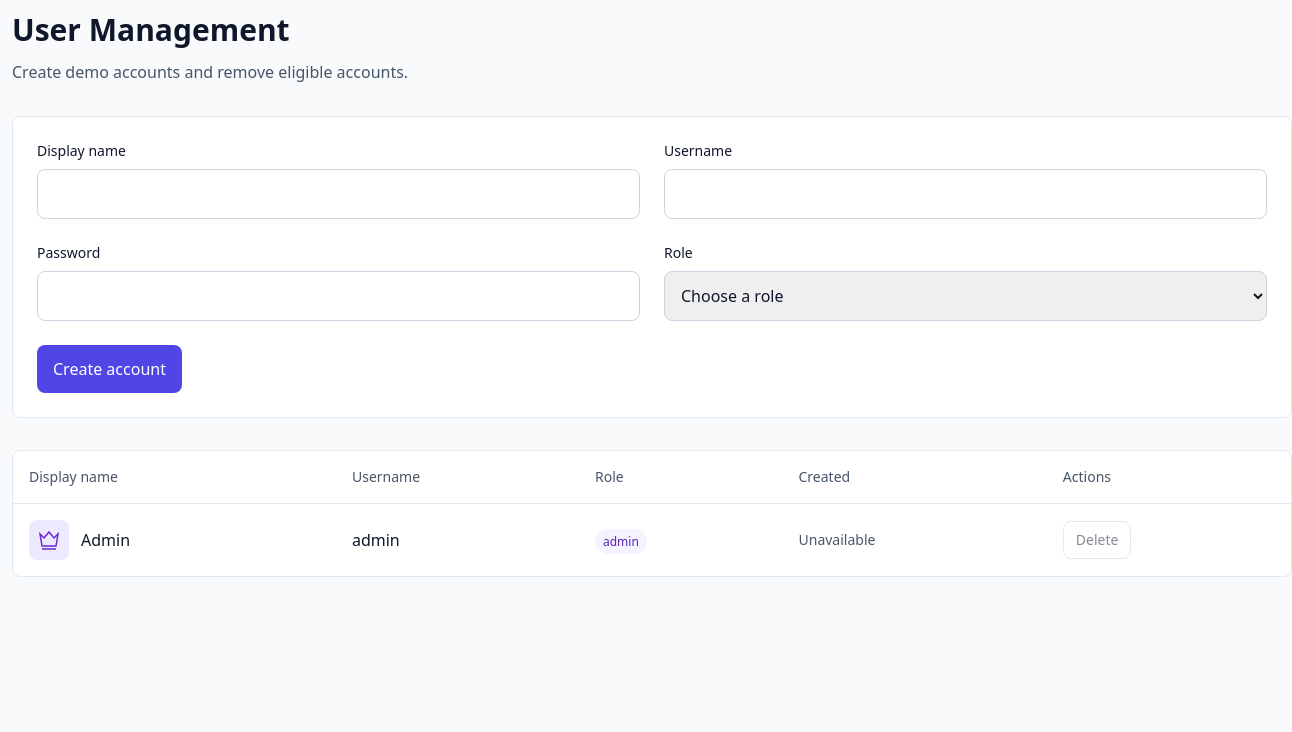
creates exact admin account without session or posts writes
Type "Alex" into the field labelled "Display name". click: (338, 194)
box: top-left (37, 169), bottom-right (640, 219)
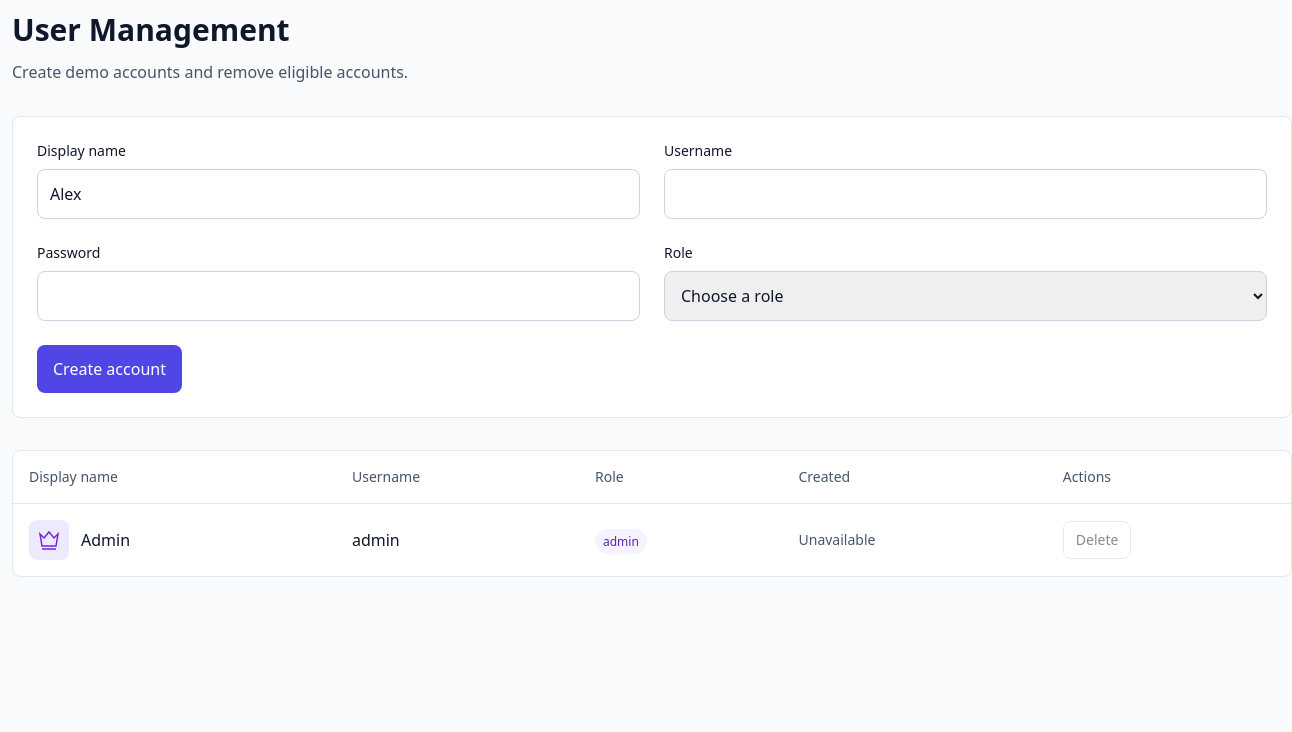
Type "alex" into the field labelled "Username". click: (966, 194)
box: top-left (664, 169), bottom-right (1267, 219)
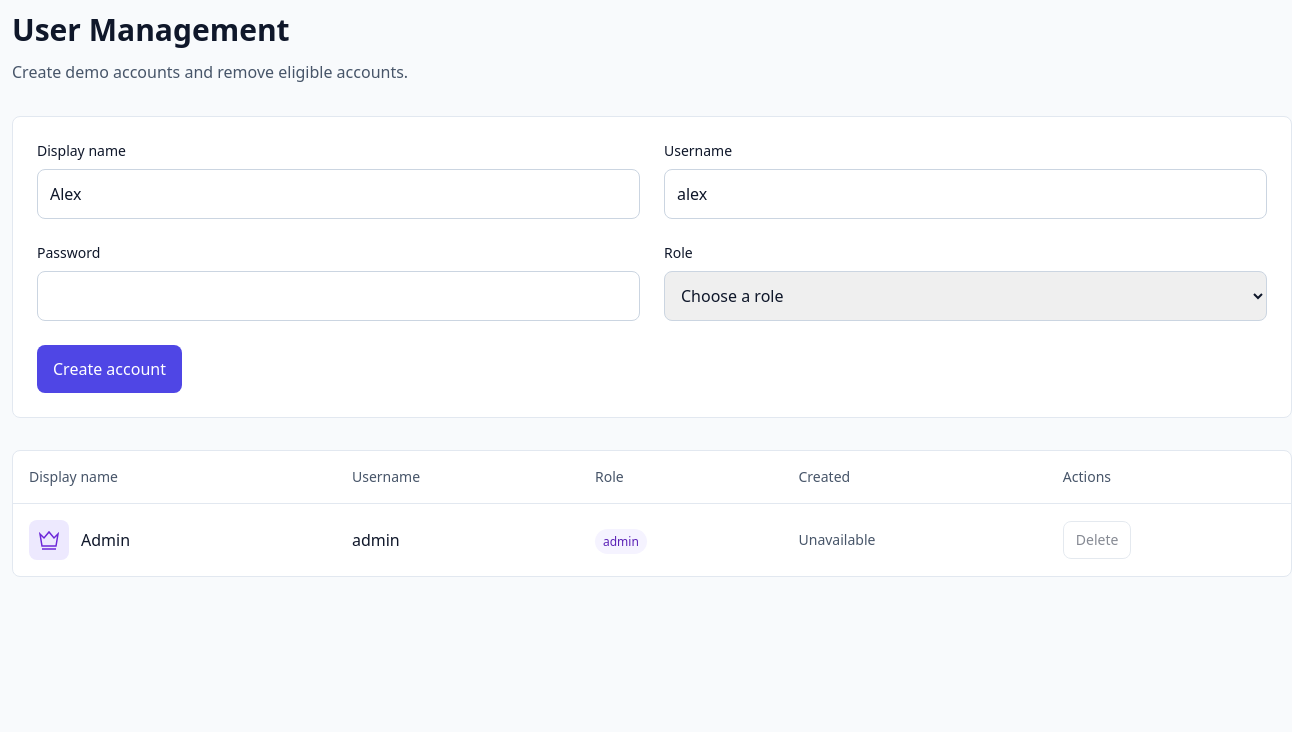
Type " demo " into the password field labelled "Password". click: (338, 296)
box: top-left (37, 271), bottom-right (640, 321)
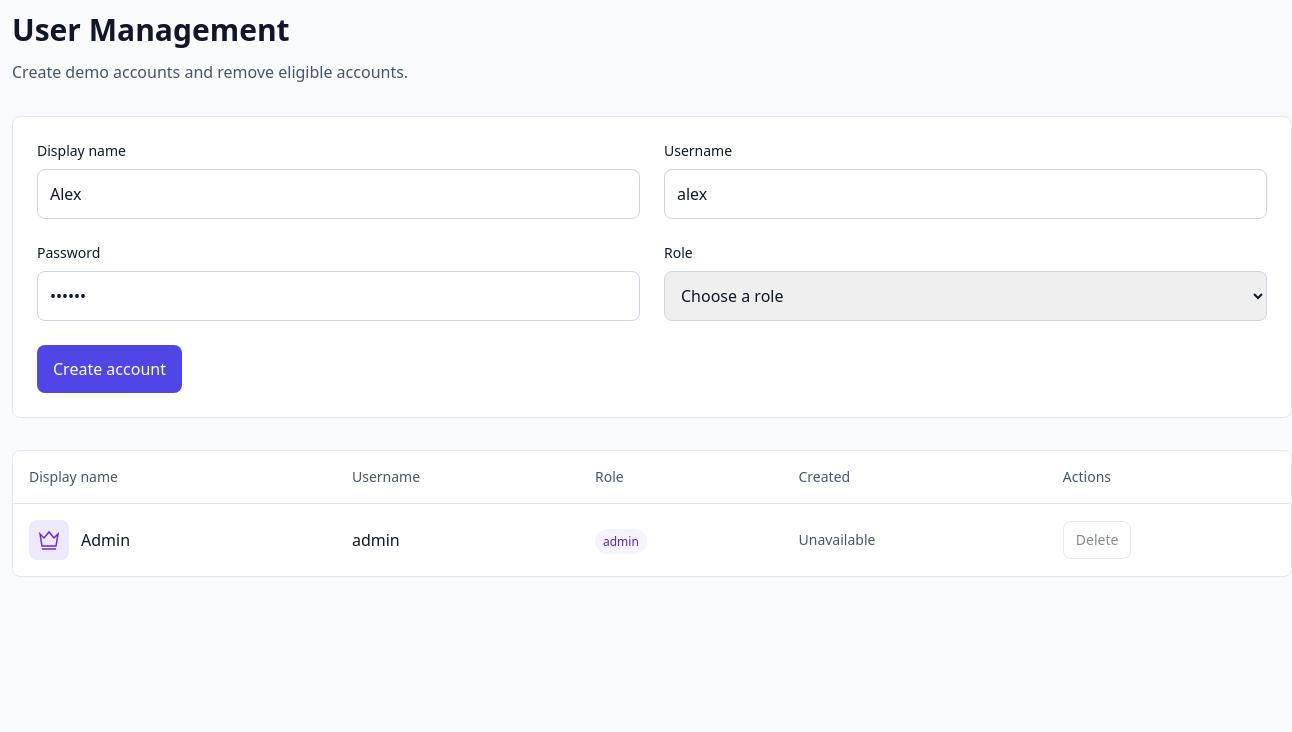
Select "admin" in the dropdown labelled "Role". click: (966, 296)
box: top-left (664, 271), bottom-right (1267, 321)
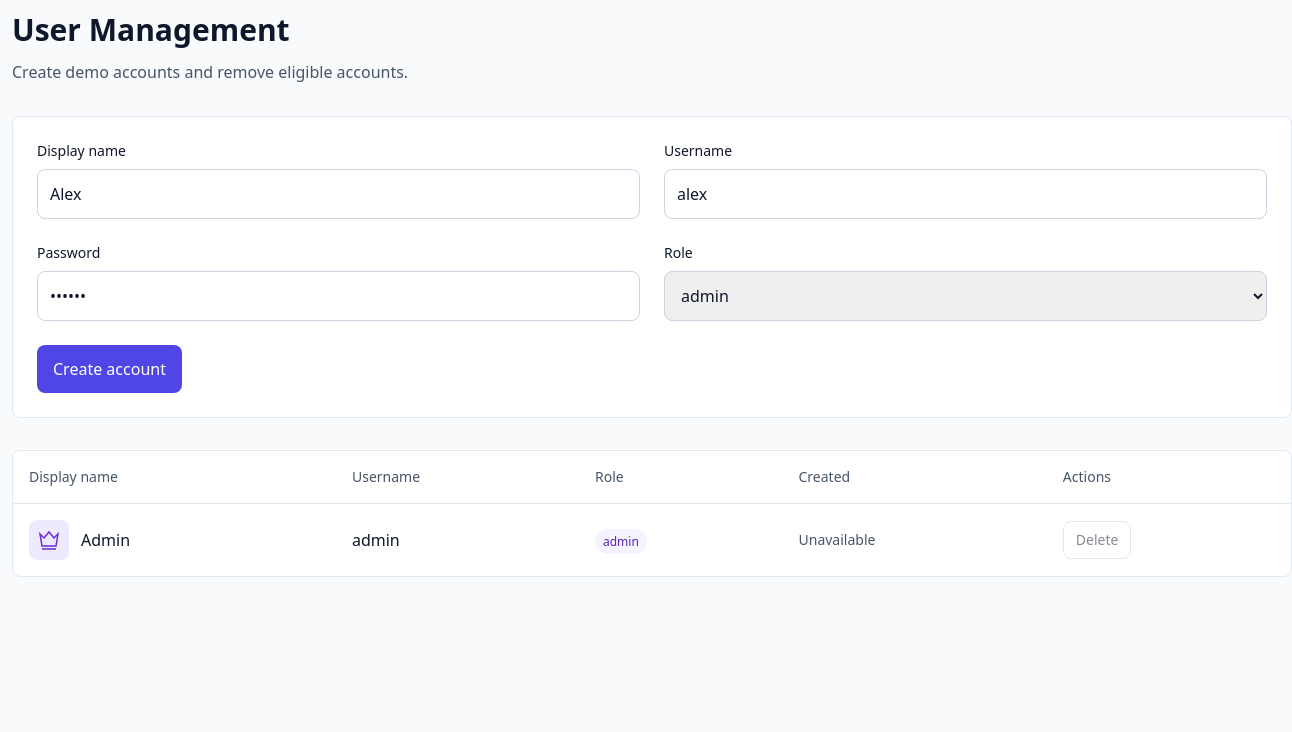
Submit the form "Create account", box top-left (12, 116), bottom-right (1291, 418)
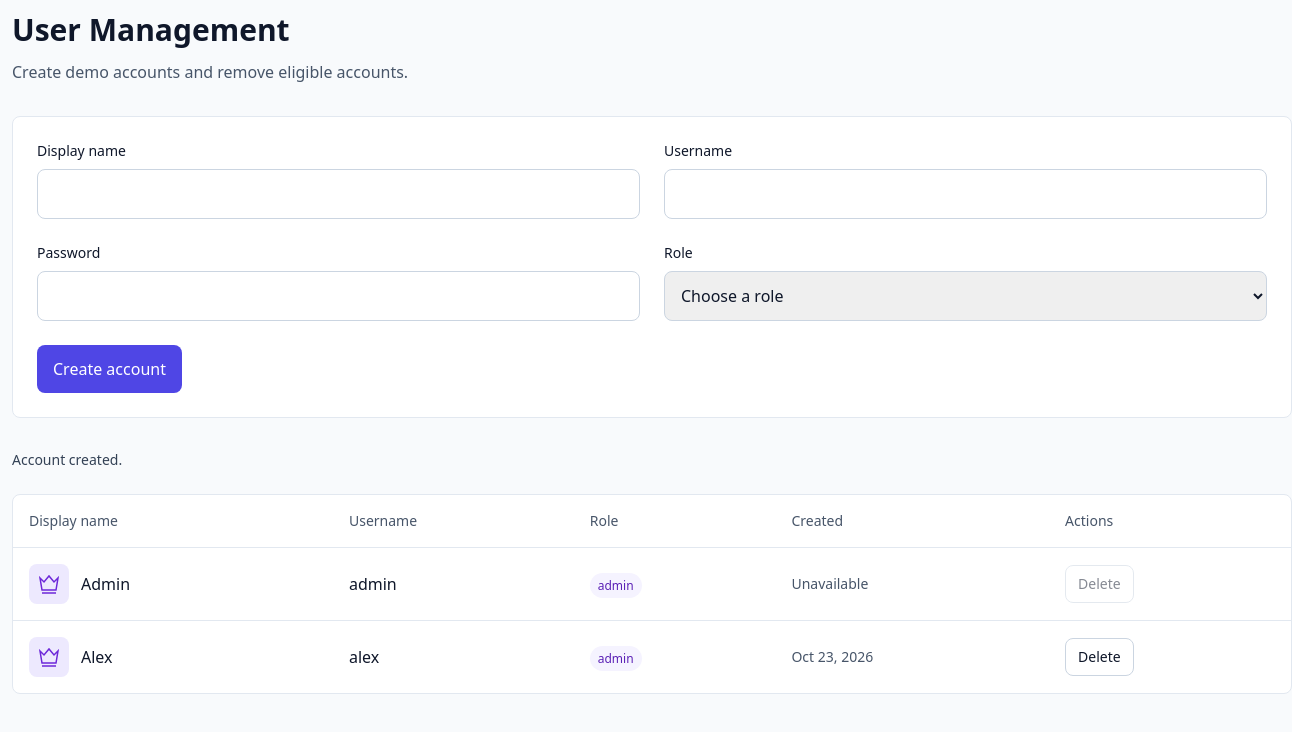
Check: the message reads "Account created.", box top-left (12, 450), bottom-right (122, 469)
